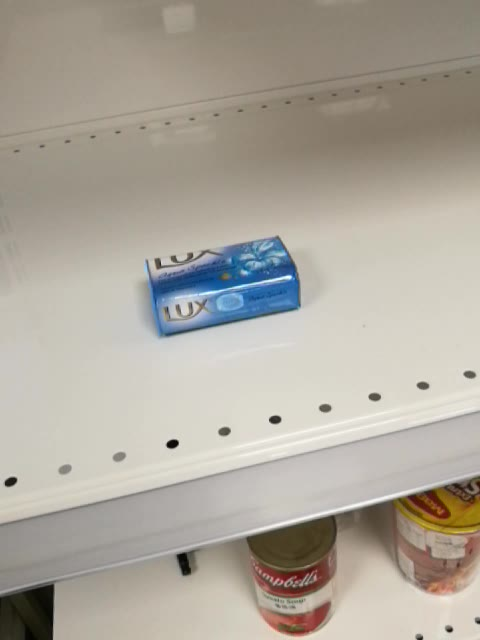soap: (143, 236, 301, 338)
